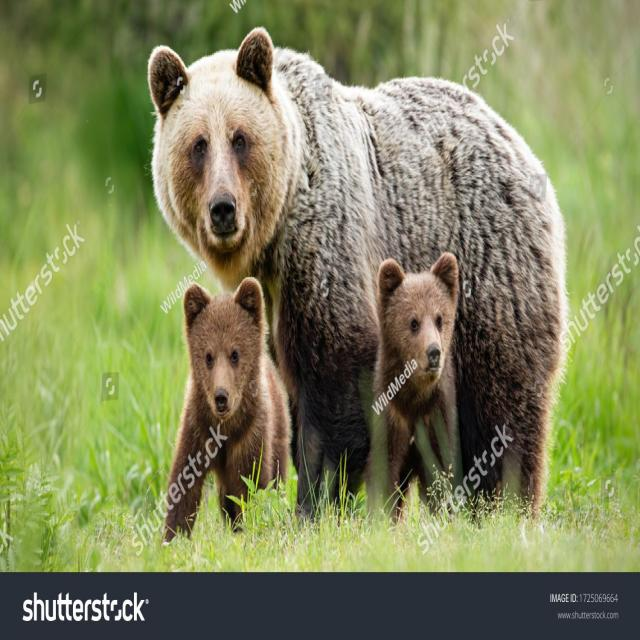Bear: (146, 29, 570, 521), (372, 253, 460, 526)
